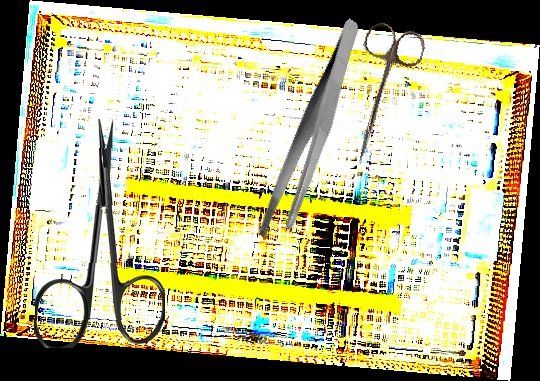Dressing Forceps: (214, 17, 412, 248)
Iris Scissors: (34, 117, 168, 351), (333, 19, 429, 171)
